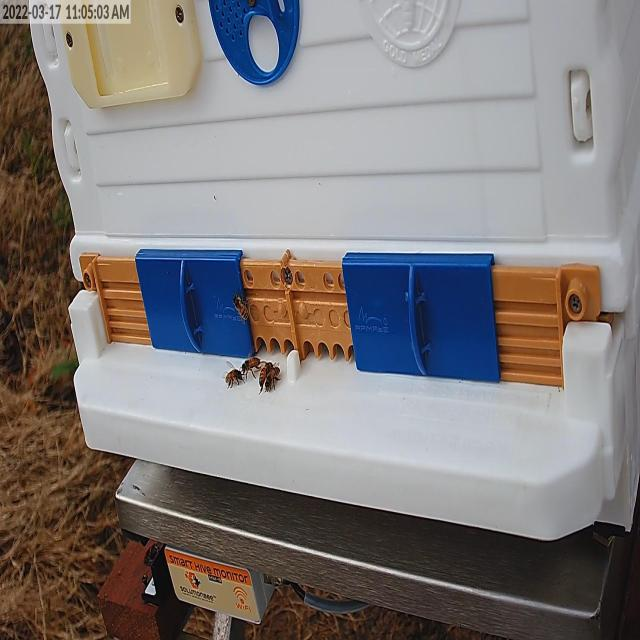honeybee: (232, 282, 248, 326), (226, 356, 239, 384), (241, 344, 256, 366), (267, 361, 278, 388), (260, 353, 266, 379)
